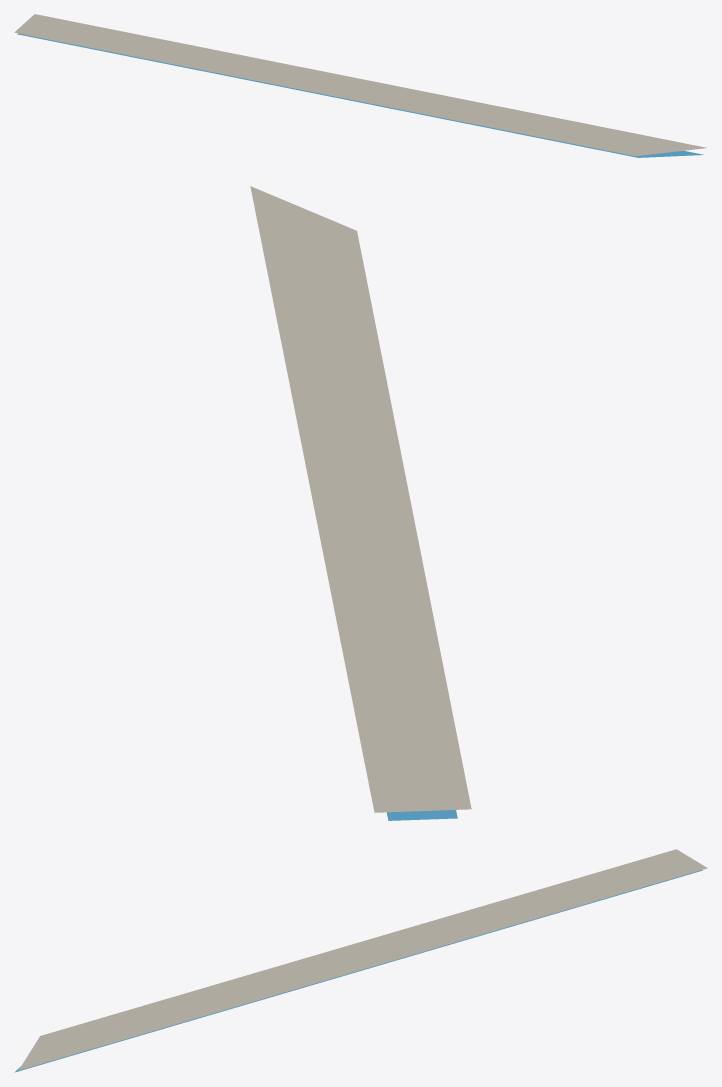
3 views of the same model, one above another, from view 1: azimuth 30°, elevation 25°; view 2: azimuth 150°, elevation 25°; view 3: azimuth 270°, elevation 25° (orthographic). The views are drawn at different scales.
Parts seen in each view (by area): view 1: estructura_terreno, estructura_agua; view 2: estructura_terreno; view 3: estructura_terreno, estructura_agua.
Part boxes in pixels (x1,y1,x2,y2): estructura_terreno: [14, 14, 706, 156]; estructura_agua: [17, 33, 703, 157]; estructura_terreno: [250, 186, 471, 812]; estructura_terreno: [18, 849, 707, 1070]; estructura_agua: [14, 870, 702, 1072].
Bounding box in the file's own units: 40.02 × 0.41 × 52.99.
